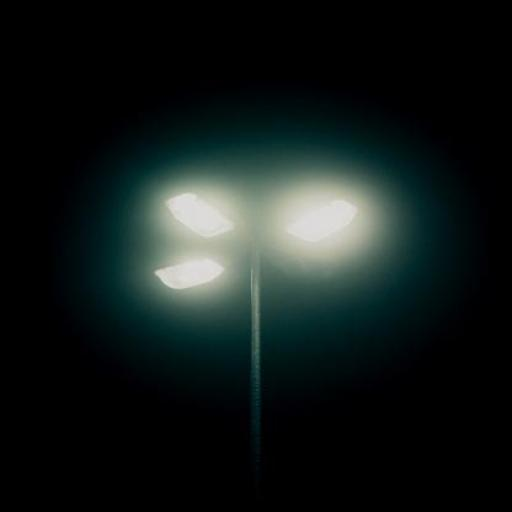street light: (150, 191, 357, 511)
